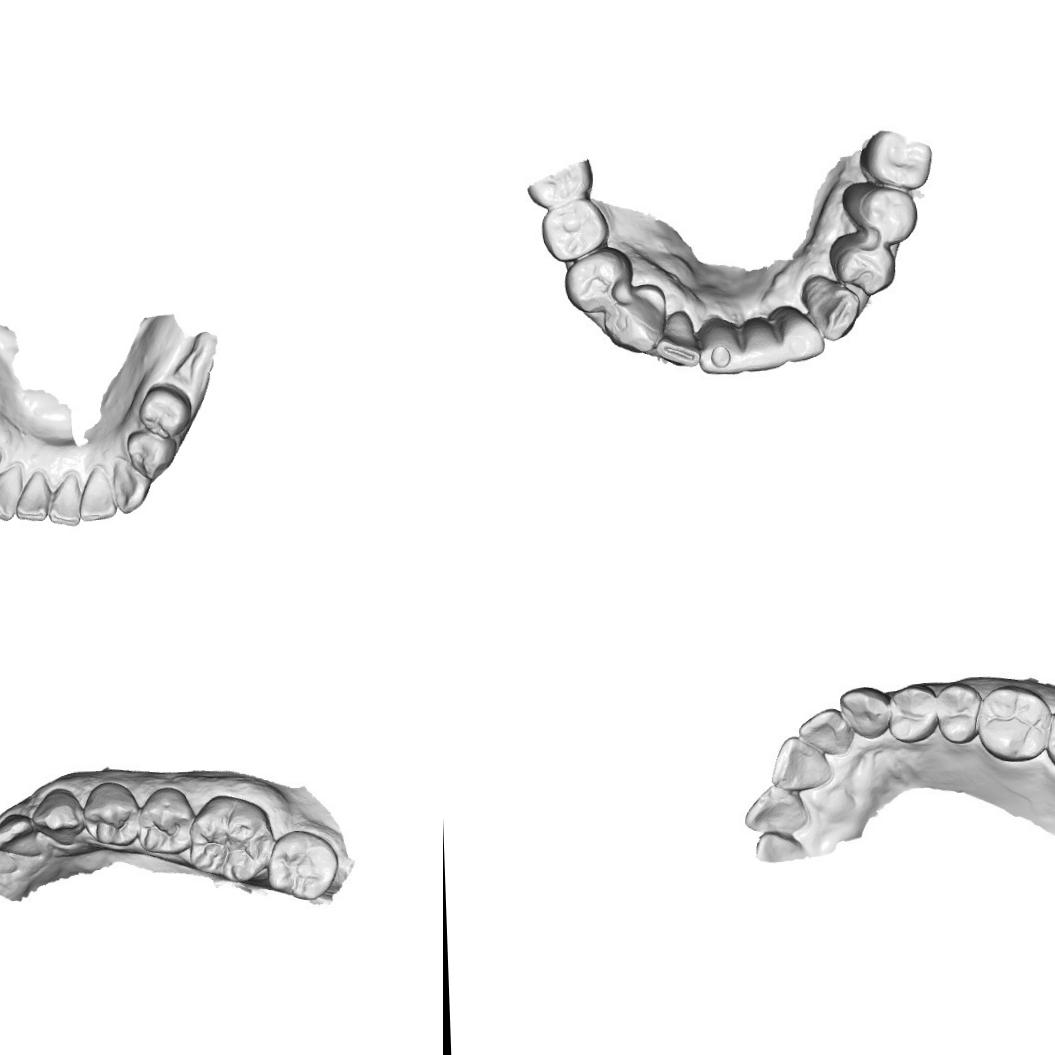canine: (602, 282, 668, 356), (800, 274, 862, 342), (839, 680, 893, 742), (34, 786, 86, 847), (108, 455, 151, 516)
incisor: (770, 733, 829, 797), (744, 782, 812, 836), (794, 704, 854, 761), (772, 301, 826, 364), (696, 316, 745, 376), (654, 308, 701, 370), (74, 464, 120, 524), (742, 314, 787, 372), (44, 471, 84, 528), (13, 468, 52, 523), (0, 811, 43, 860), (0, 462, 28, 523), (0, 834, 20, 879)
molar: (184, 795, 274, 886), (973, 683, 1055, 763), (263, 828, 341, 902), (856, 127, 934, 192)
premolar: (840, 180, 920, 247), (561, 244, 635, 314), (540, 196, 611, 264), (828, 231, 896, 298), (136, 784, 195, 856), (84, 782, 140, 853), (879, 686, 945, 746), (933, 678, 989, 748), (136, 380, 195, 441), (122, 428, 178, 484)
